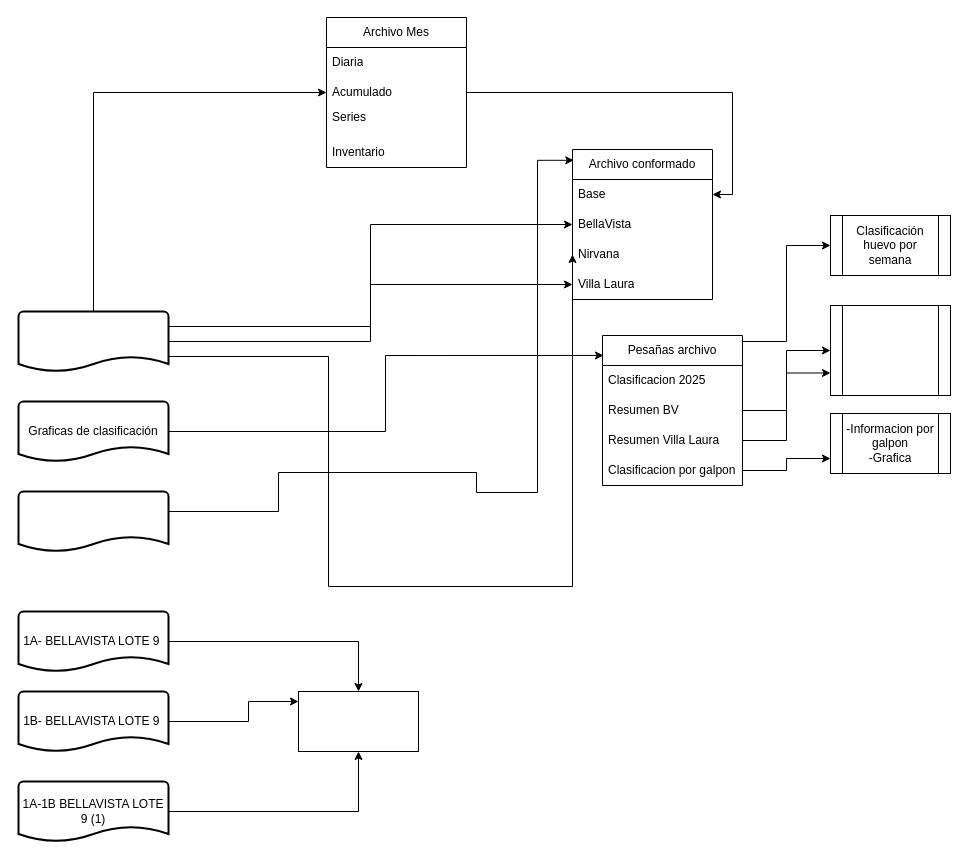
This 968x860 diagram has some shape labels left out. The shapes that lost their labels are listed below. From the top down, each one's centre as x and y in pixels, then its label:
pixel 93 341: Informe diario de produccion acumulada
pixel 890 350: -Clasificacion granjas -Huevo no conforme -Graficas
pixel 93 521: Tablero de gestón granjas
pixel 358 721: Datos que llenan manualmente, archivos protegidos
